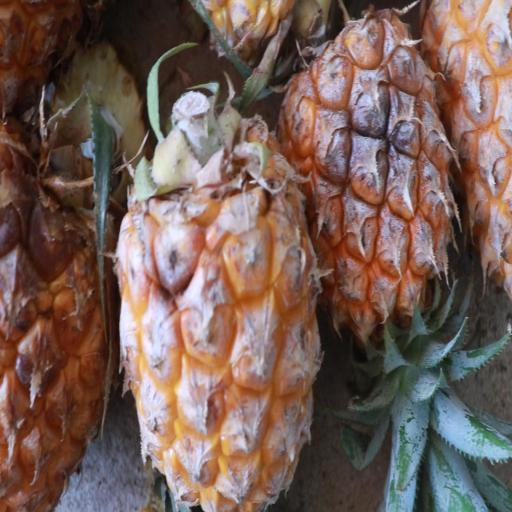Pineapple - v8 v1: (108, 121, 326, 512), (262, 0, 460, 385)
